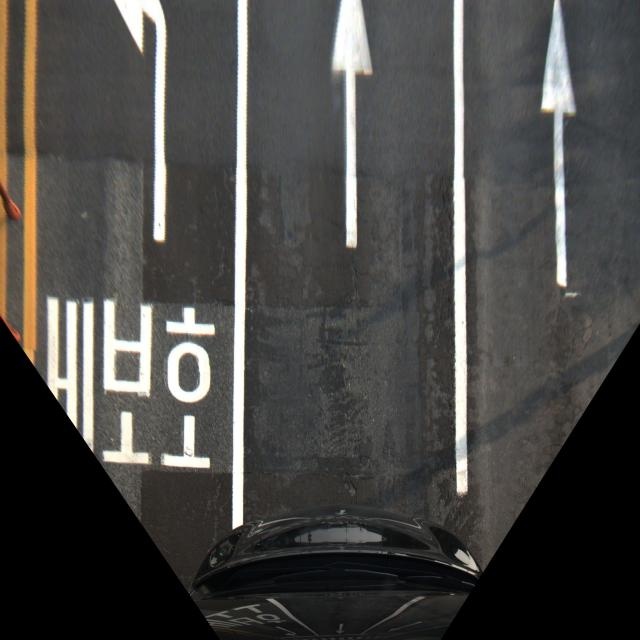forward: (231, 0, 477, 495)
